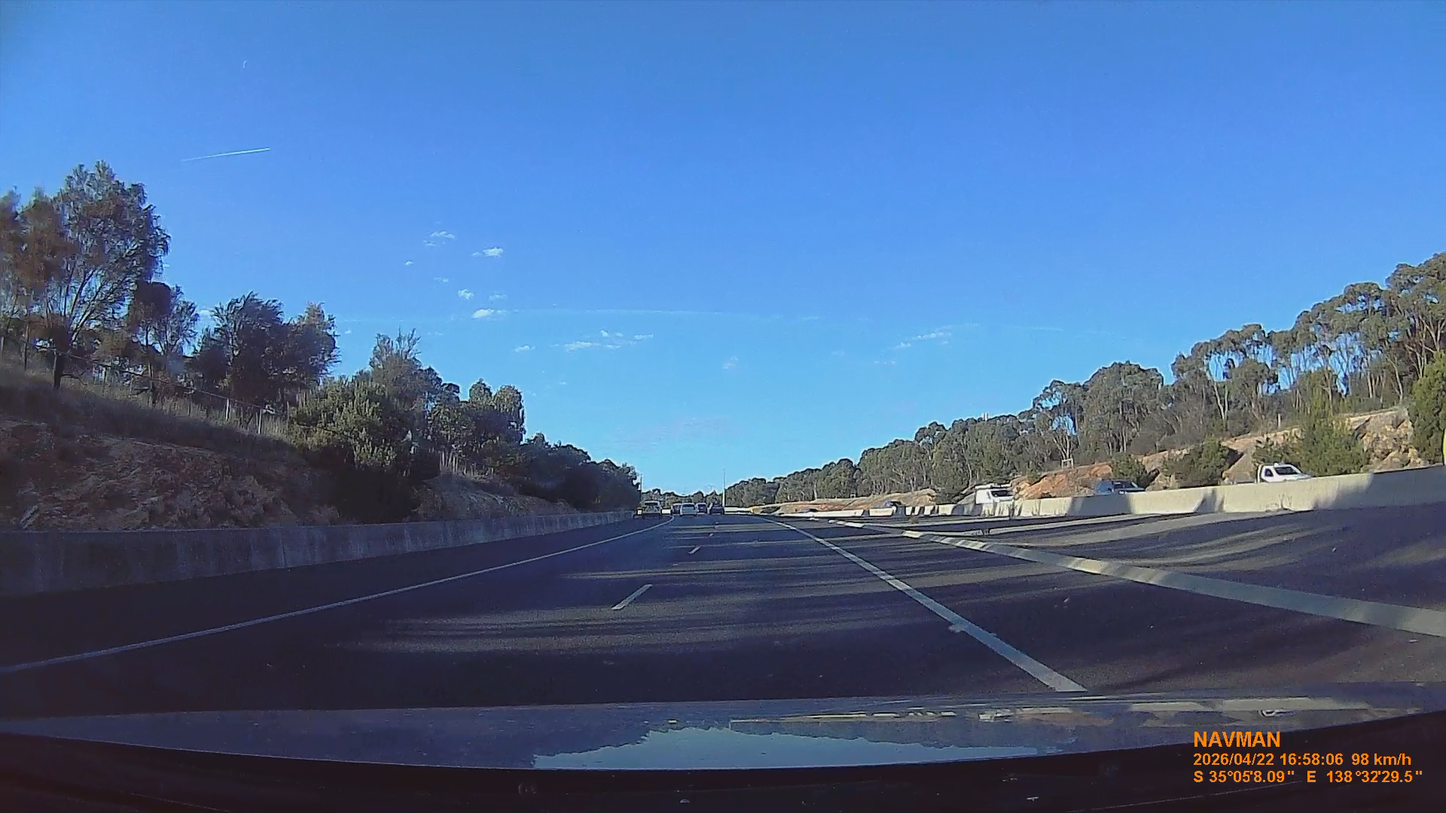fences: (52, 353, 282, 419), (152, 380, 285, 427), (422, 403, 473, 471)
road barriers: (0, 511, 631, 598), (1016, 467, 1445, 517)
